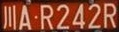A: (19, 5, 31, 30)
